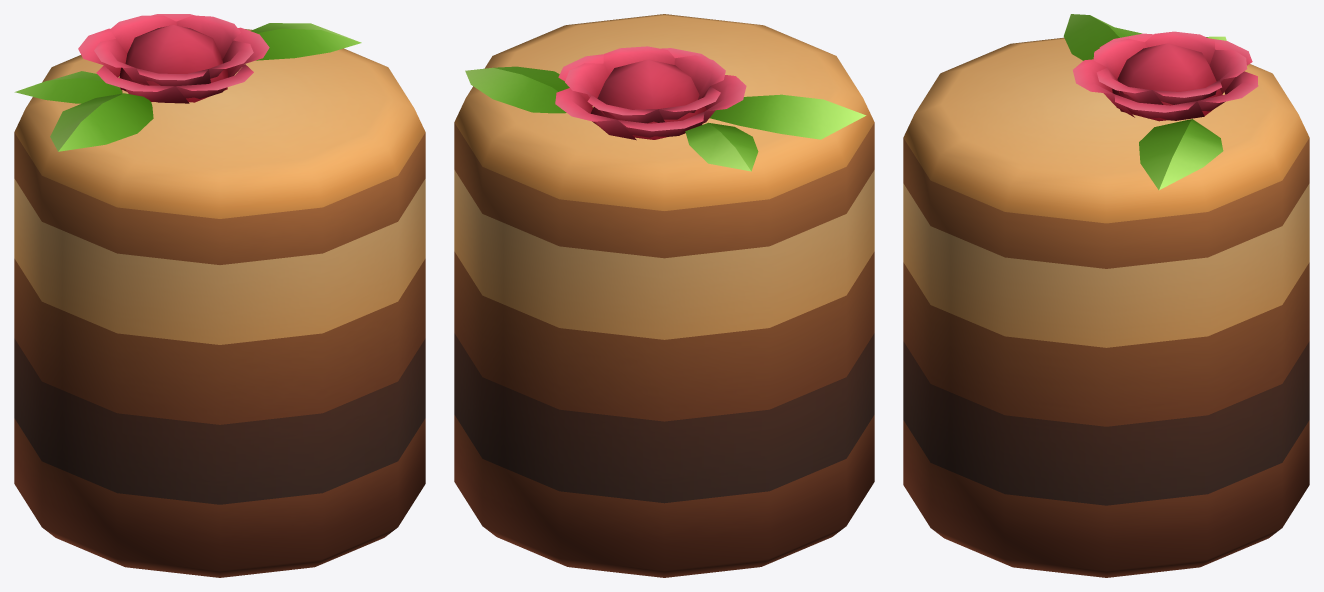
File: m_MiniCake07.fbx
The picture shows the model from 3 angles, left to right: view 1: azimuth 30°, elevation 25°; view 2: azimuth 150°, elevation 25°; view 3: azimuth 270°, elevation 25°; orthographic projection. The views are drawn at different scales.
Visible parts, largest first — view 1: m_MiniCake07; view 2: m_MiniCake07; view 3: m_MiniCake07.
Boxes of the visible parts, x1=… form: m_MiniCake07: x1=14, y1=14, x2=425, y2=577; m_MiniCake07: x1=454, y1=14, x2=874, y2=577; m_MiniCake07: x1=903, y1=14, x2=1309, y2=577.
Size of the model in its own units: 11.39 by 13.8 by 11.34.
